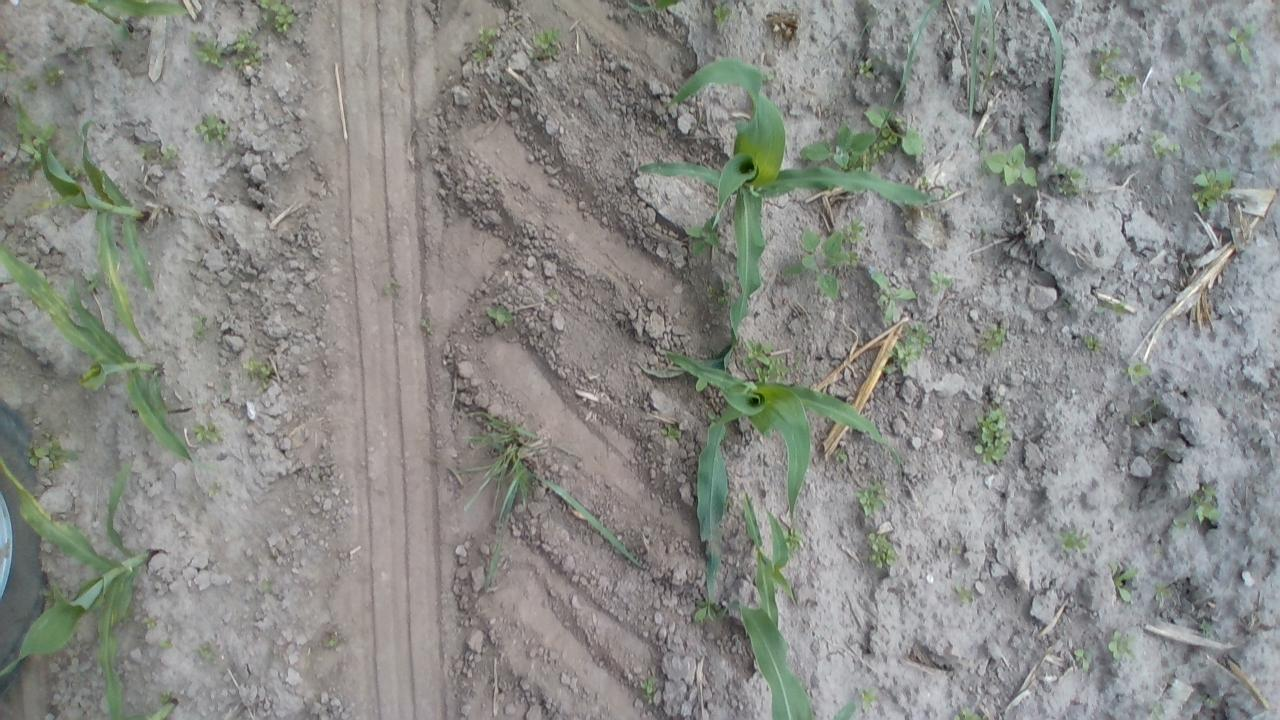Maize: (632, 53, 933, 378), (658, 349, 906, 622), (0, 240, 212, 471), (0, 450, 157, 720), (13, 90, 159, 347), (724, 597, 860, 720), (740, 491, 796, 630), (66, 0, 190, 44), (125, 700, 178, 720), (625, 0, 718, 11)
Weeds: (467, 408, 646, 578), (892, 0, 1066, 145), (784, 226, 849, 300), (799, 123, 875, 170), (865, 106, 923, 157), (878, 324, 932, 374), (983, 142, 1039, 187), (972, 400, 1011, 464), (871, 270, 916, 323), (742, 338, 790, 384), (16, 116, 55, 172), (1191, 167, 1232, 214), (26, 436, 80, 470), (686, 216, 722, 258), (1226, 24, 1257, 66), (258, 0, 296, 34), (196, 114, 233, 146), (1192, 486, 1222, 525), (1049, 160, 1082, 195), (866, 531, 896, 569), (1108, 561, 1134, 604), (232, 31, 262, 68), (856, 483, 886, 517), (1092, 44, 1121, 78), (1056, 527, 1092, 554), (241, 356, 273, 386), (194, 39, 226, 69), (1149, 128, 1180, 158), (857, 52, 890, 80), (472, 26, 497, 62), (694, 598, 727, 624), (1111, 76, 1138, 106), (1108, 630, 1134, 660), (536, 28, 562, 57), (980, 324, 1006, 352), (1123, 362, 1153, 385), (705, 280, 733, 304), (192, 422, 222, 443), (1174, 70, 1202, 92), (782, 527, 802, 557), (484, 304, 514, 324), (928, 270, 952, 294), (62, 158, 87, 180), (1073, 646, 1092, 674), (710, 1, 732, 23), (844, 219, 863, 244), (859, 686, 878, 710), (640, 676, 658, 701), (42, 64, 62, 86), (0, 51, 18, 74), (190, 314, 206, 338), (84, 272, 105, 290), (952, 708, 983, 720), (956, 584, 974, 604), (1083, 336, 1102, 354), (658, 424, 680, 439), (1106, 142, 1124, 160), (1152, 582, 1170, 600), (196, 644, 213, 661), (1171, 516, 1189, 532), (706, 409, 722, 427), (160, 147, 176, 163), (42, 587, 54, 608), (832, 447, 848, 462), (138, 145, 152, 160), (1269, 139, 1280, 158), (1130, 413, 1146, 426), (421, 318, 434, 334), (208, 481, 220, 498), (1114, 302, 1128, 316), (24, 78, 38, 92), (794, 355, 808, 369), (847, 252, 861, 266), (760, 70, 776, 81), (323, 635, 337, 647), (142, 616, 156, 628), (160, 690, 172, 704), (188, 30, 200, 44), (920, 174, 931, 188), (1200, 620, 1210, 634), (264, 580, 274, 592), (160, 640, 172, 649), (943, 186, 952, 198), (1206, 697, 1216, 707), (383, 283, 394, 292), (724, 498, 732, 509), (787, 188, 795, 196)
